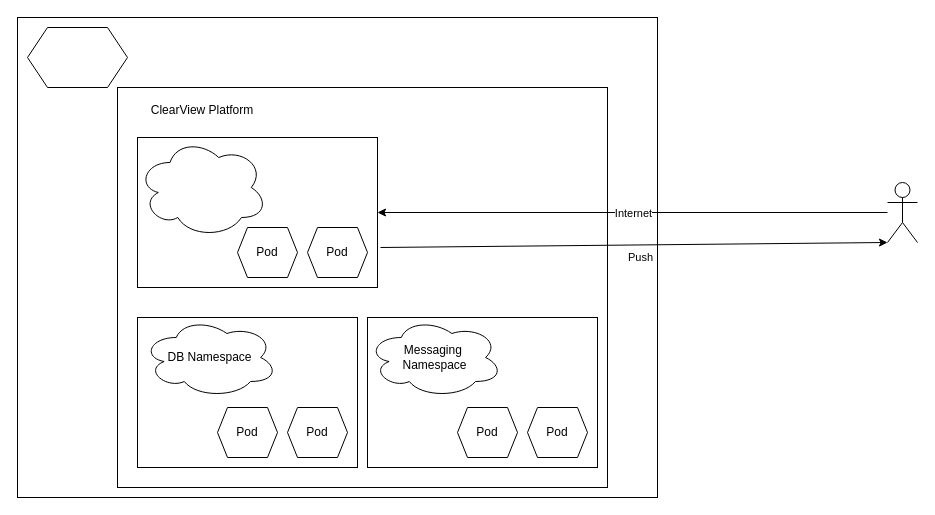
The diagram is 935 pixels wide and 515 high, and some of its shapes have lost their labels. The centre of each missing label's shape, as x and y in pixels:
"App Namespace" belongs at point (202, 187).
"Client" belongs at point (902, 212).
"Kubernetes Cluster" belongs at point (77, 57).
